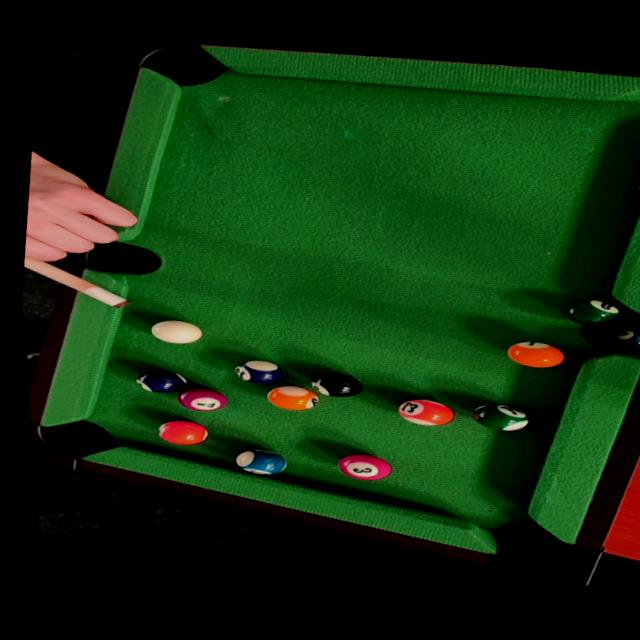cue ball: (145, 312, 208, 353)
other: (497, 335, 577, 376), (465, 394, 535, 439), (224, 351, 291, 391), (335, 445, 398, 486), (391, 393, 457, 432), (263, 380, 326, 419), (564, 291, 624, 330), (232, 445, 295, 482), (147, 415, 213, 450), (130, 363, 194, 398), (310, 367, 369, 402), (177, 384, 232, 418)
